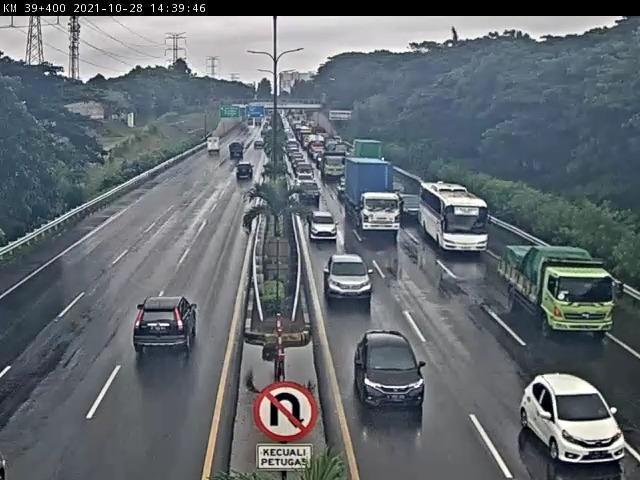bus: (418, 174, 489, 261)
car: (515, 369, 632, 475), (350, 321, 430, 413), (126, 290, 208, 362), (322, 251, 374, 303), (307, 209, 339, 242), (398, 191, 429, 225), (297, 180, 323, 207), (234, 161, 257, 183), (226, 141, 248, 163), (293, 169, 315, 187), (294, 158, 316, 173), (251, 141, 265, 153)
truck: (495, 241, 624, 346), (341, 154, 401, 232), (349, 134, 386, 166), (314, 148, 348, 180), (204, 135, 224, 159)
